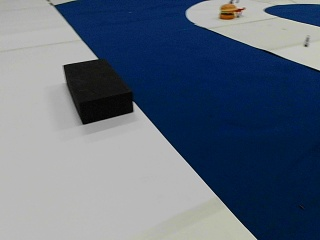block: (63, 58, 132, 123)
